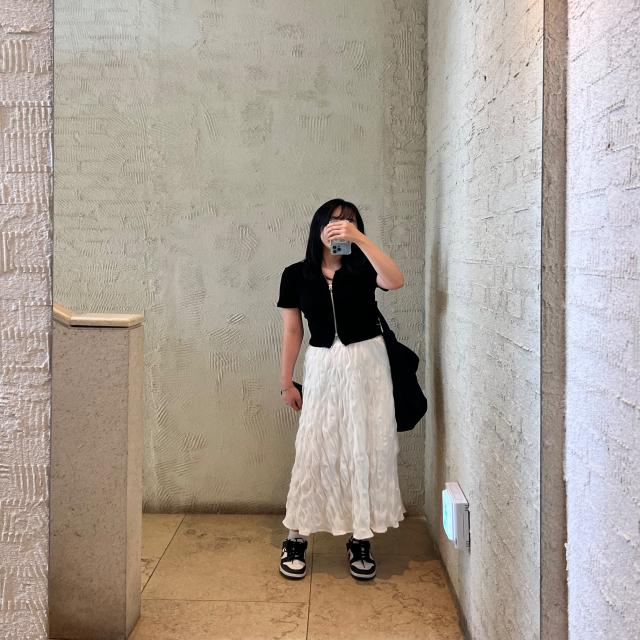shortsleeve: (280, 258, 377, 348)
skirt: (281, 334, 407, 540)
